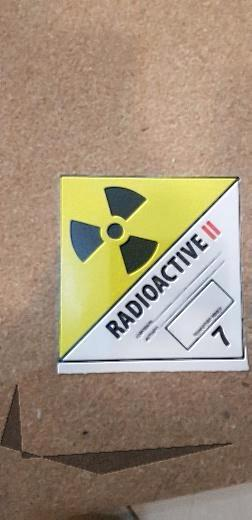radioactive: (59, 176, 242, 371)
